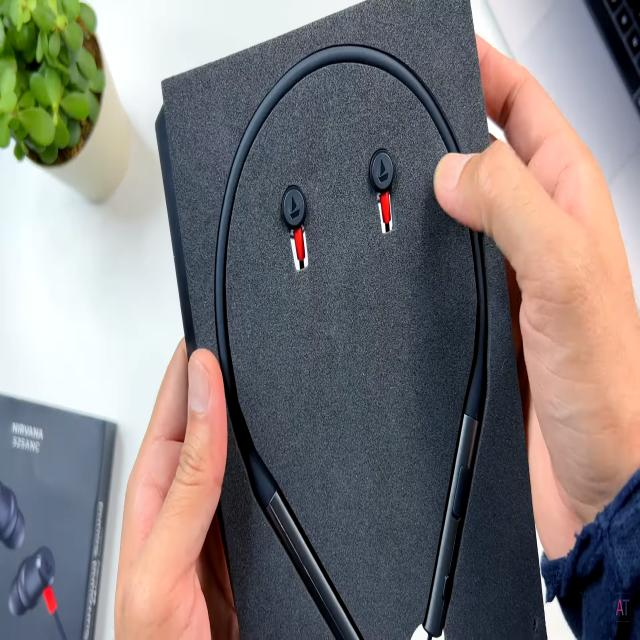Neckband: (214, 43, 487, 640)
